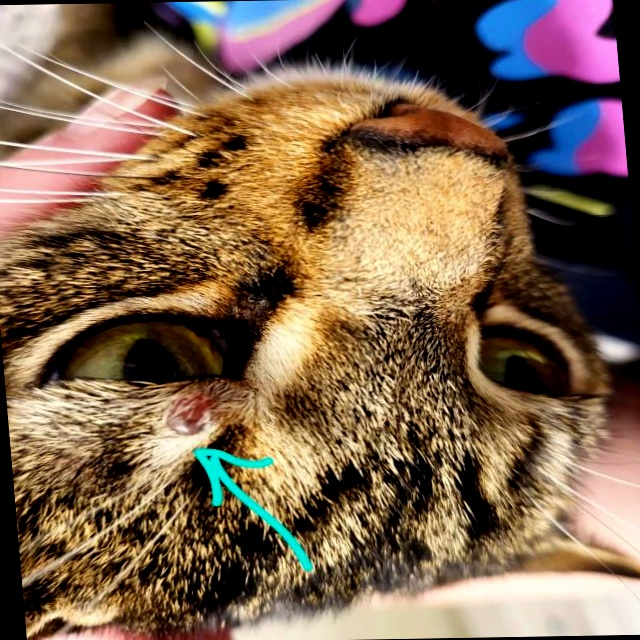lump_and_bump: (167, 394, 215, 433)
